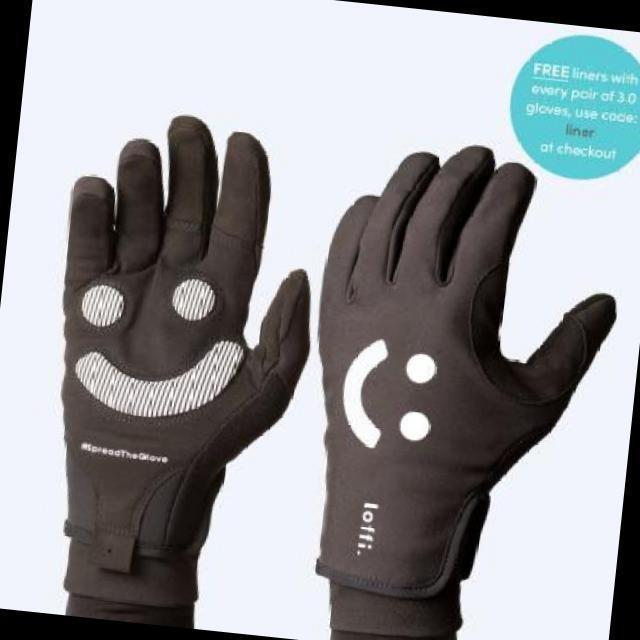glove: (315, 138, 620, 611), (58, 107, 314, 586)
